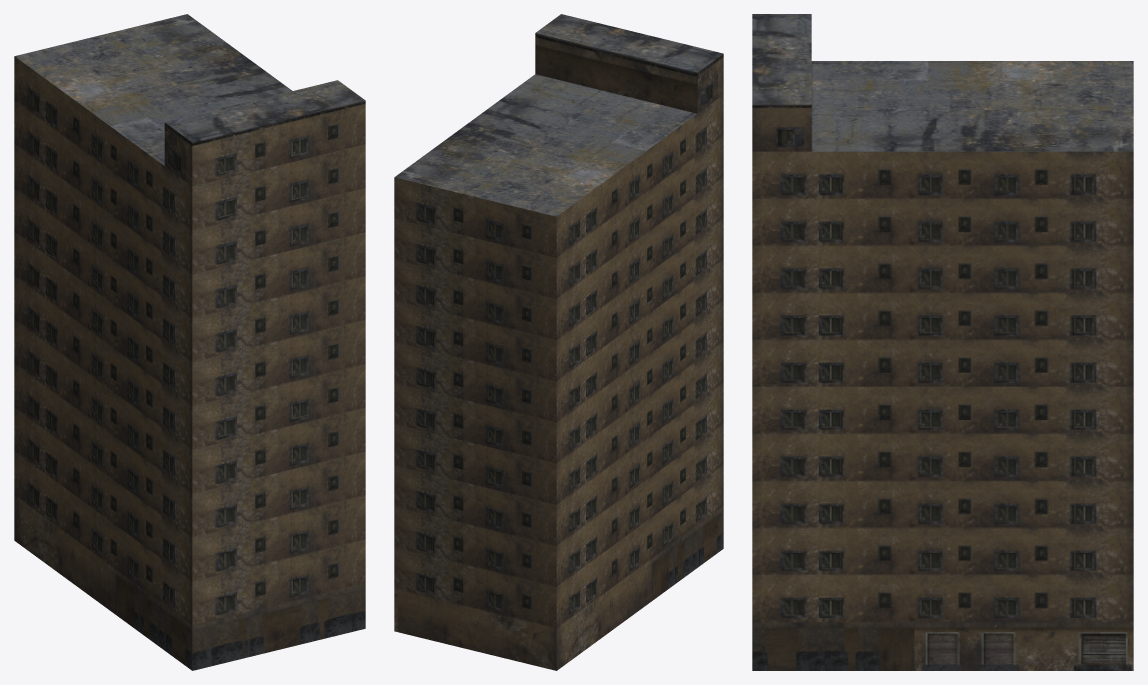
File: Tower07.FBX
3 views of the same model, side by side, from view 1: azimuth 30°, elevation 25°; view 2: azimuth 150°, elevation 25°; view 3: azimuth 270°, elevation 25° (orthographic). The views are drawn at different scales.
Parts seen in each view (by area): view 1: Tower07; view 2: Tower07; view 3: Tower07.
Boxes of the visible parts, x1=… form: Tower07: x1=14, y1=14, x2=365, y2=670; Tower07: x1=394, y1=14, x2=723, y2=670; Tower07: x1=752, y1=14, x2=1133, y2=670.
Size of the model in its own units: 2109 by 6154 by 3756.
Materials: 1 (1 with a texture image).
